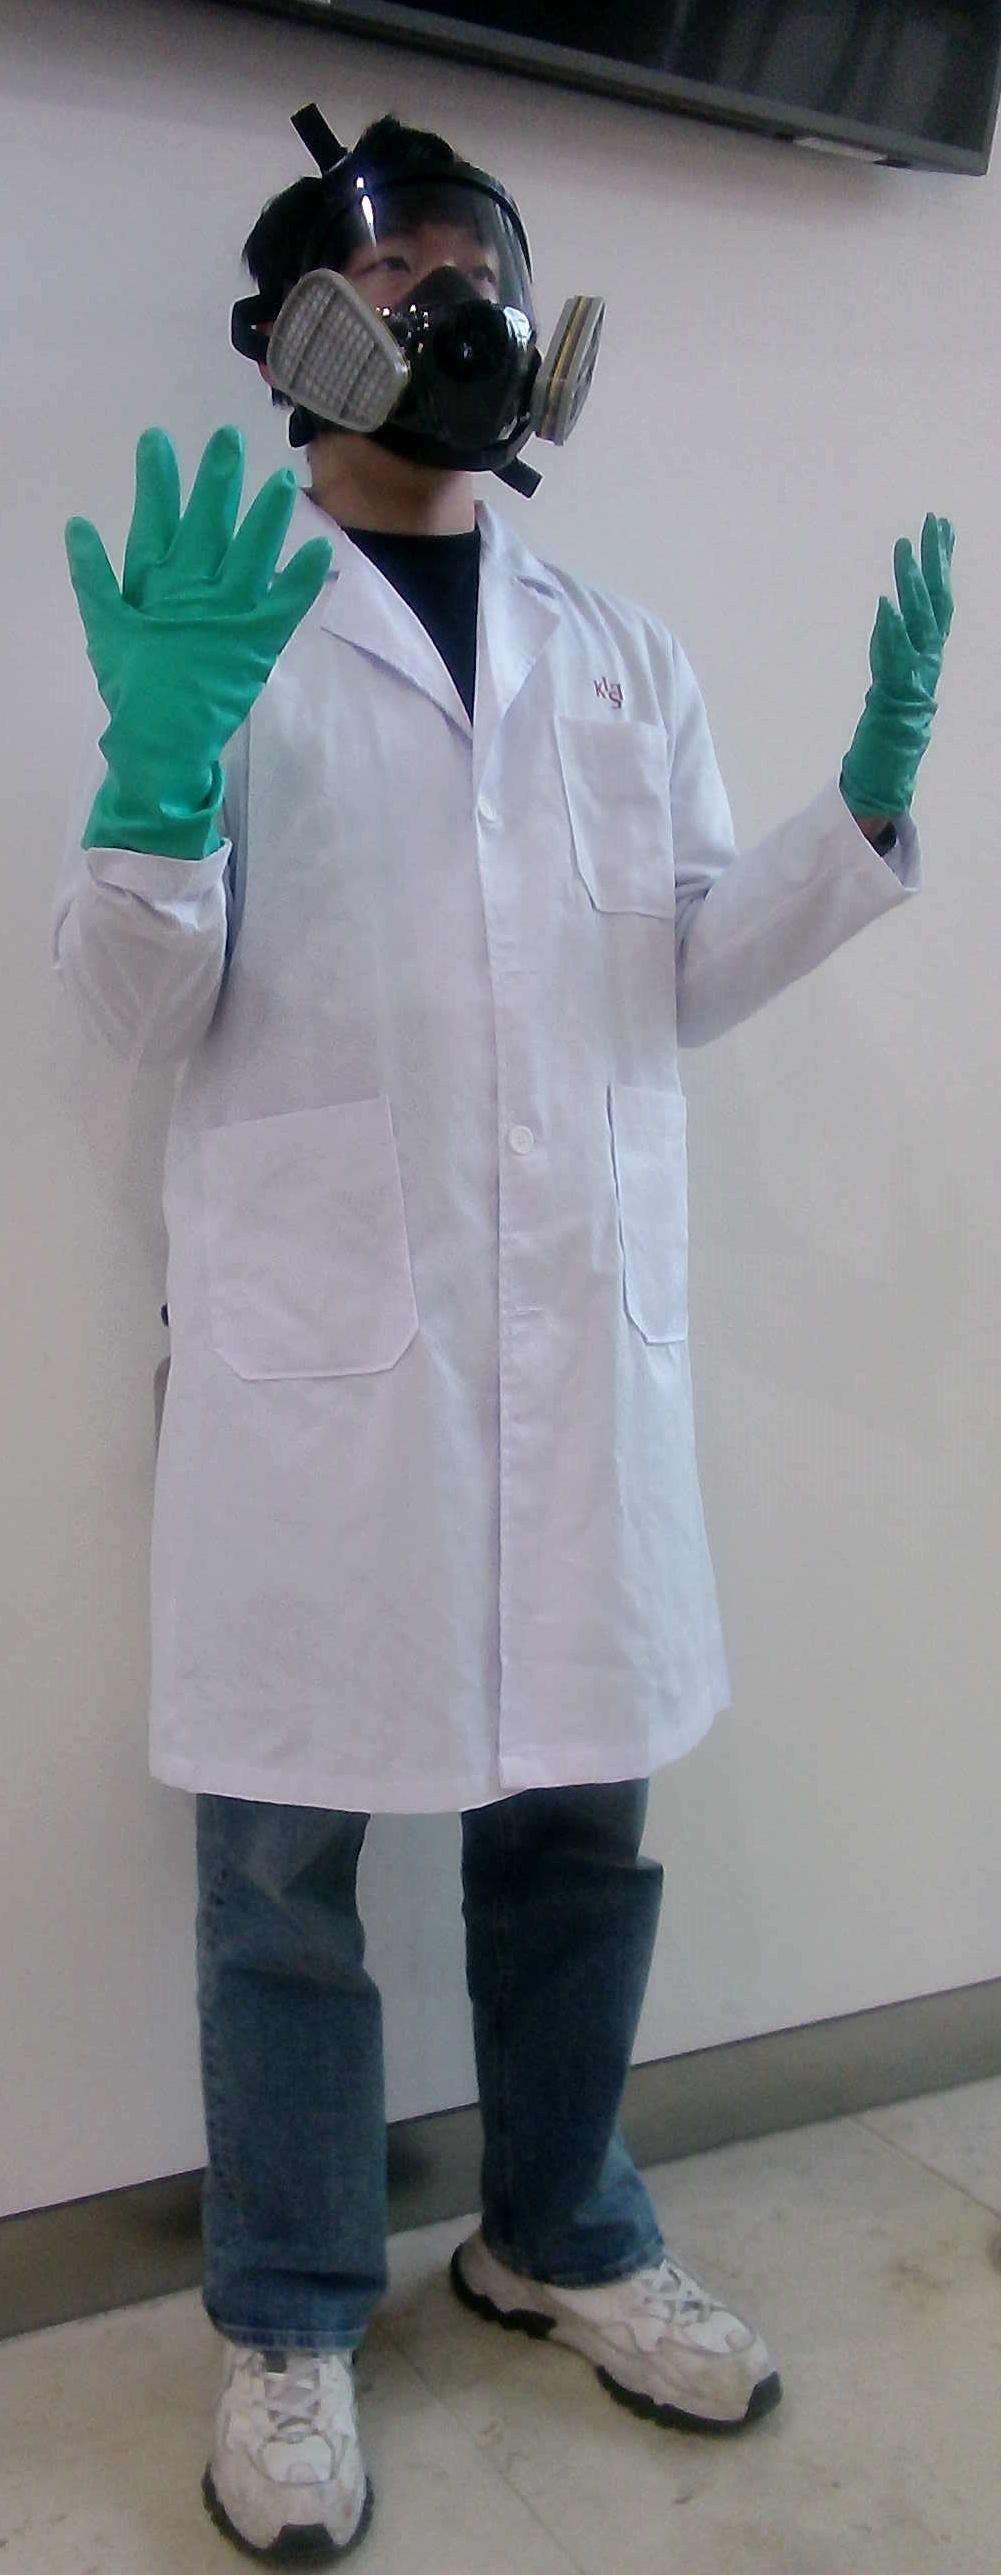lab_coat: (218, 677, 717, 1775)
